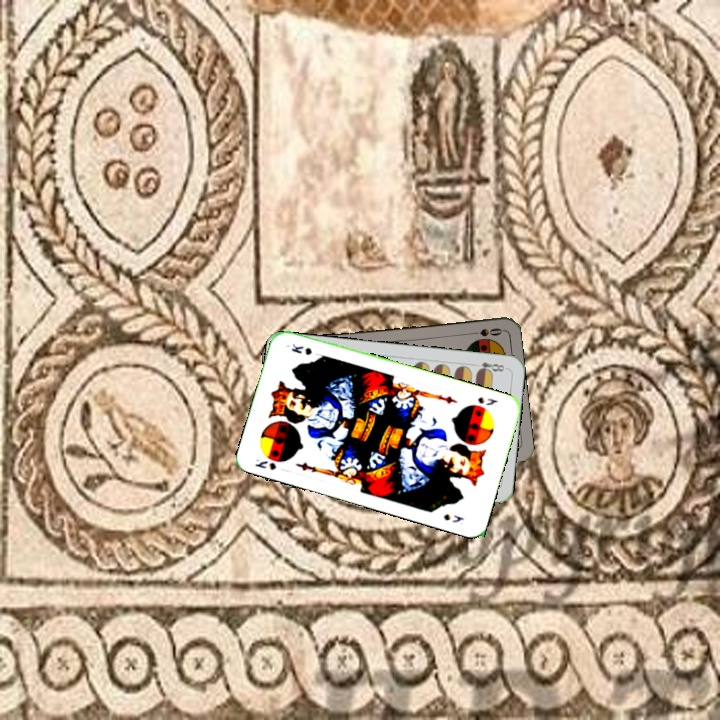E8: (469, 358, 509, 376)
SK: (251, 455, 279, 473), (474, 393, 501, 408)
SO: (464, 324, 505, 339)
